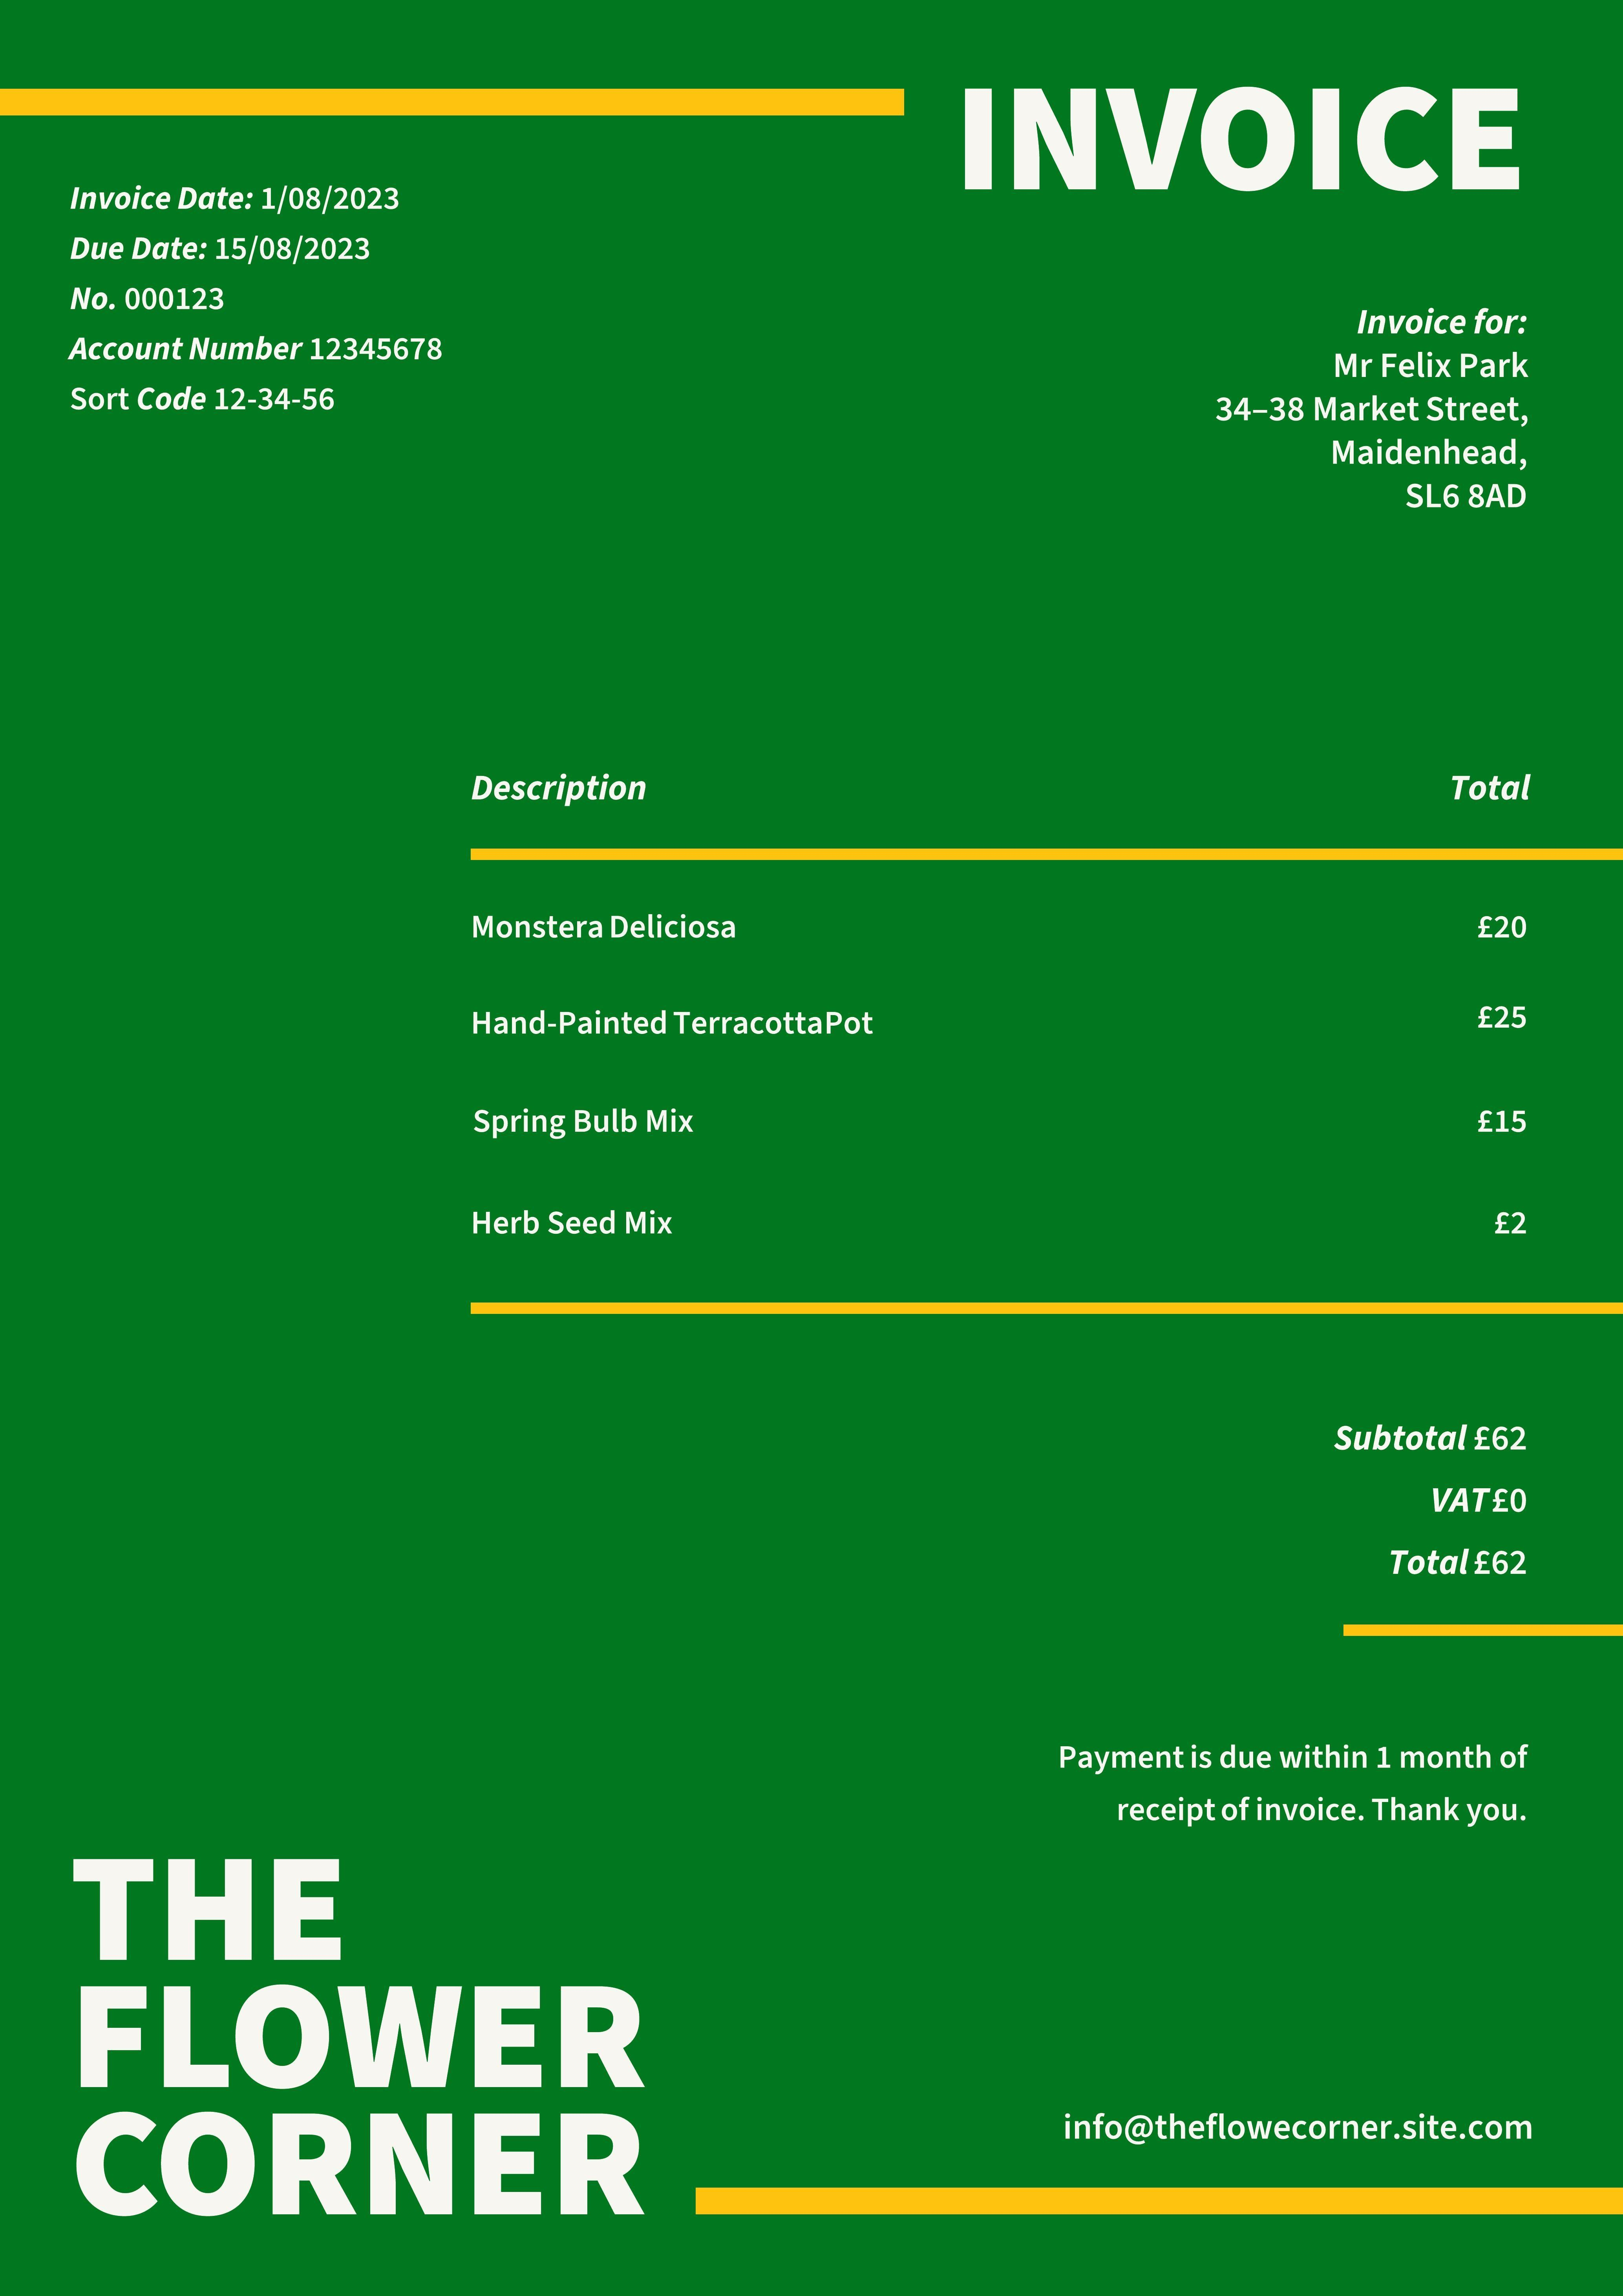ROI: (463, 767, 1537, 1250), (60, 1842, 656, 2229), (62, 174, 454, 427), (1212, 299, 1540, 525), (1049, 1731, 1539, 1839), (1321, 1404, 1537, 1591)
